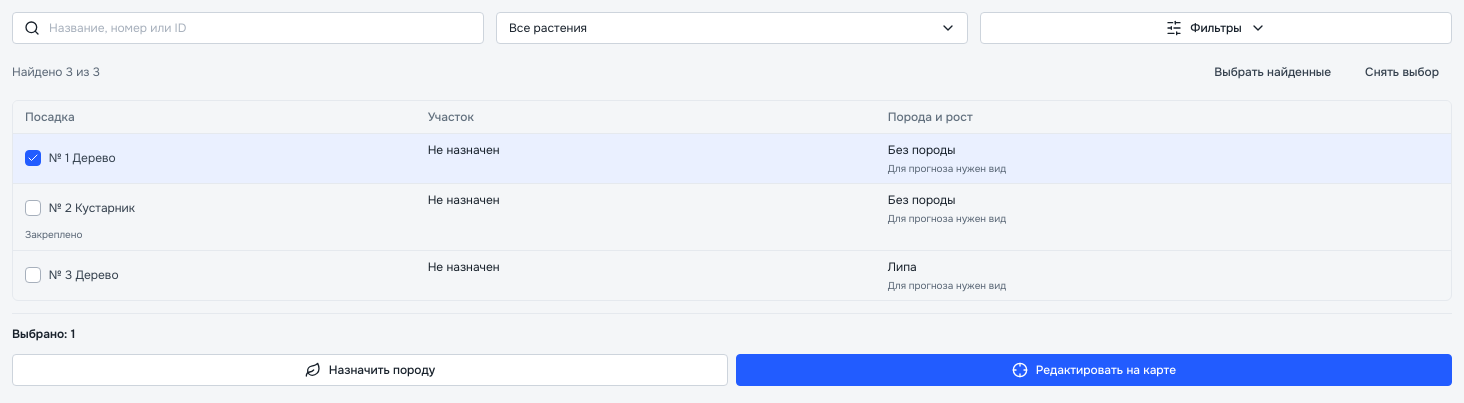
Scenario: makes selections outside the active filter explicit
Type "Липа" into the field named "Поиск посадок" at coordinates (248, 28), box [12,12,484,44]
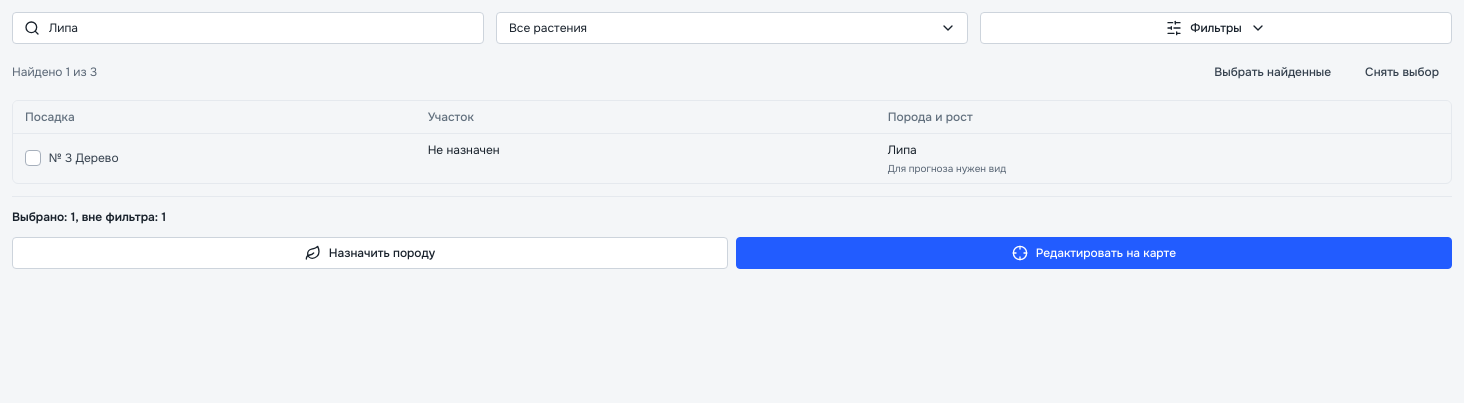
Result: the text "Выбрано: 1, вне фильтра: 1" is shown at [12,209,166,225]
